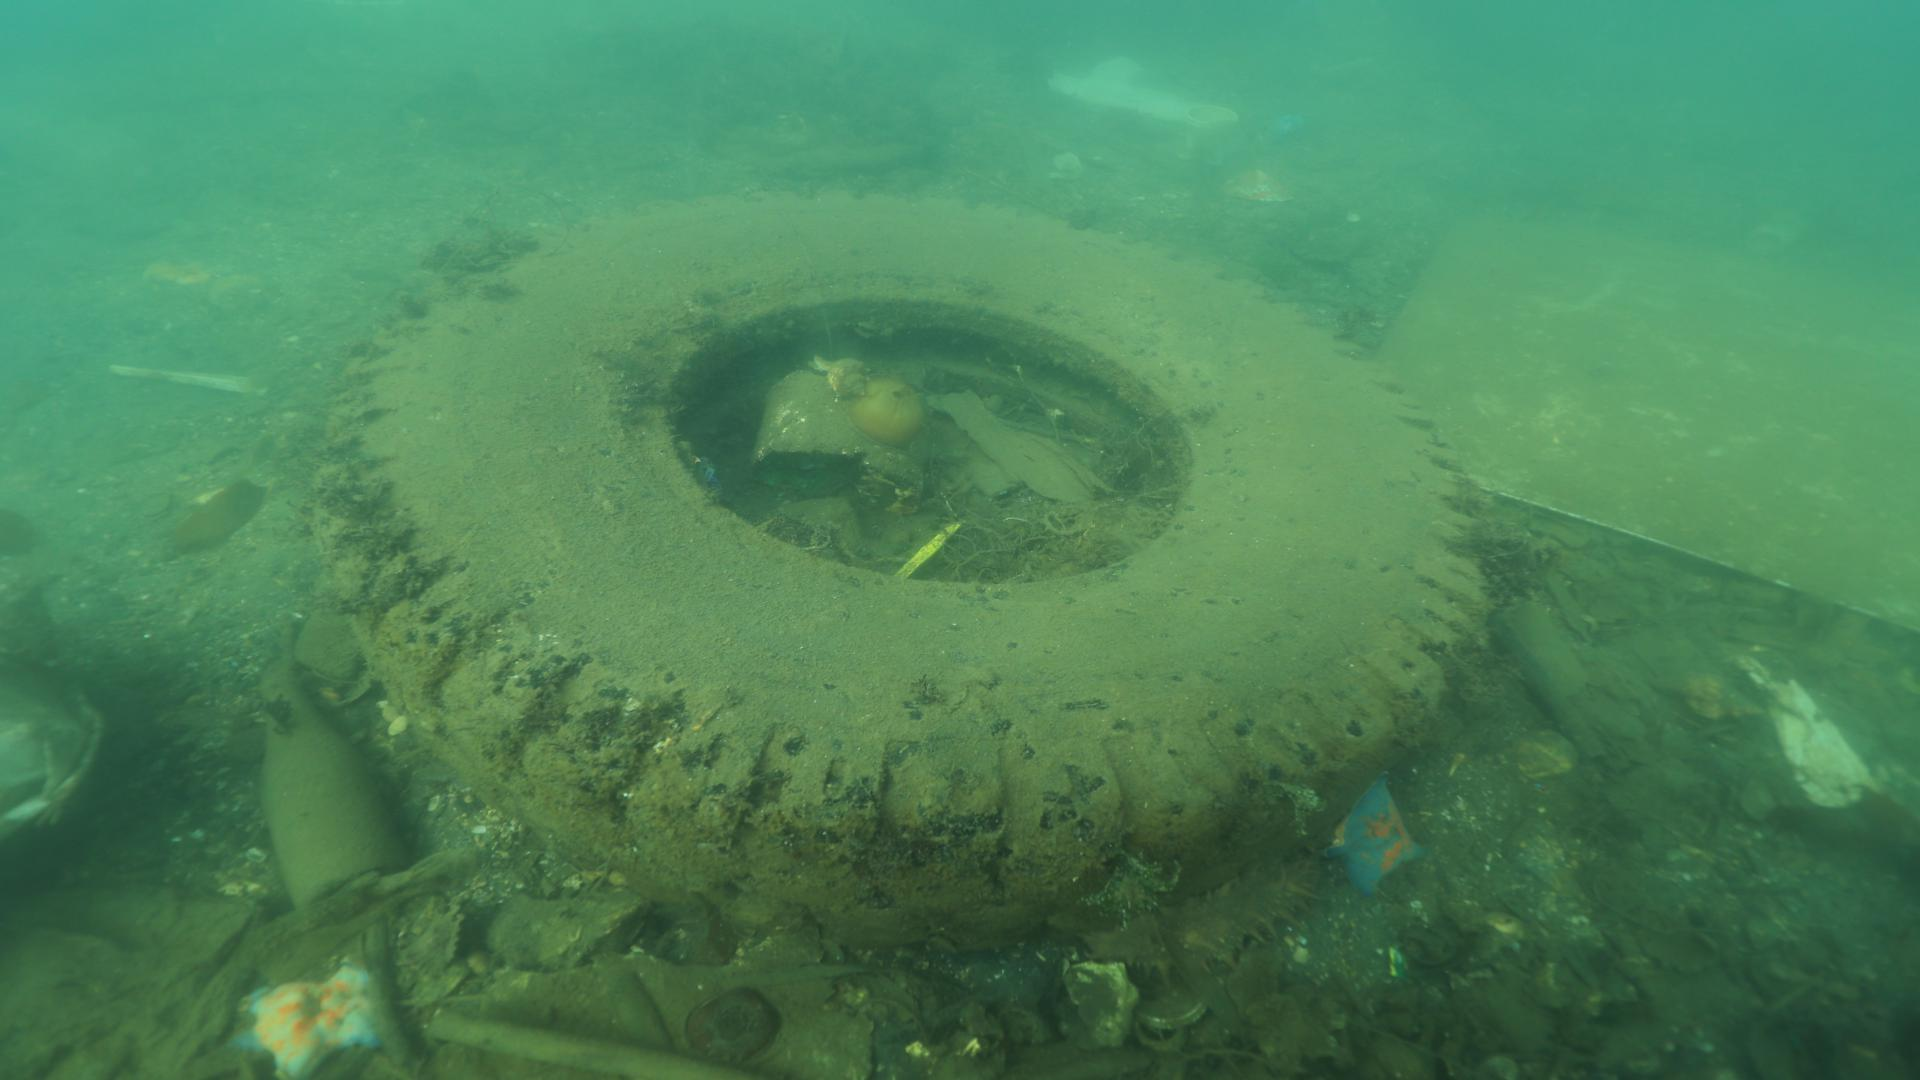tire: (313, 179, 1485, 963)
